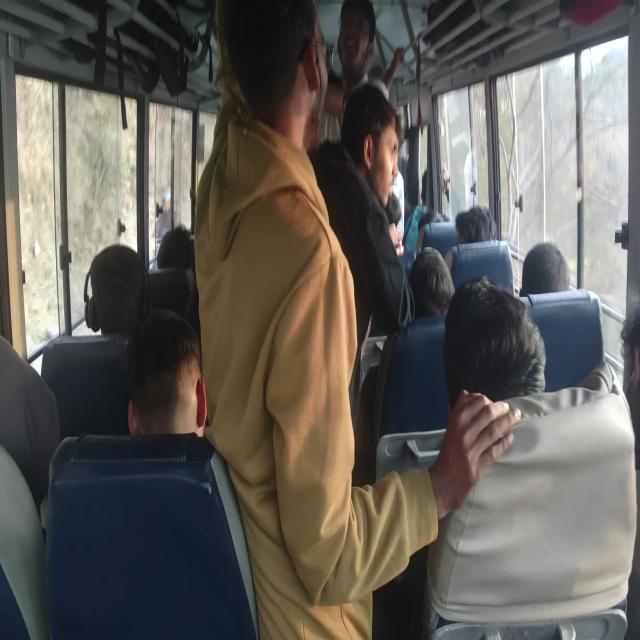person: (193, 1, 524, 638), (421, 274, 637, 637), (307, 81, 415, 418), (443, 275, 546, 409), (321, 0, 405, 144), (124, 308, 207, 437), (83, 243, 151, 336), (407, 246, 455, 318), (520, 240, 570, 296), (454, 205, 498, 244)
